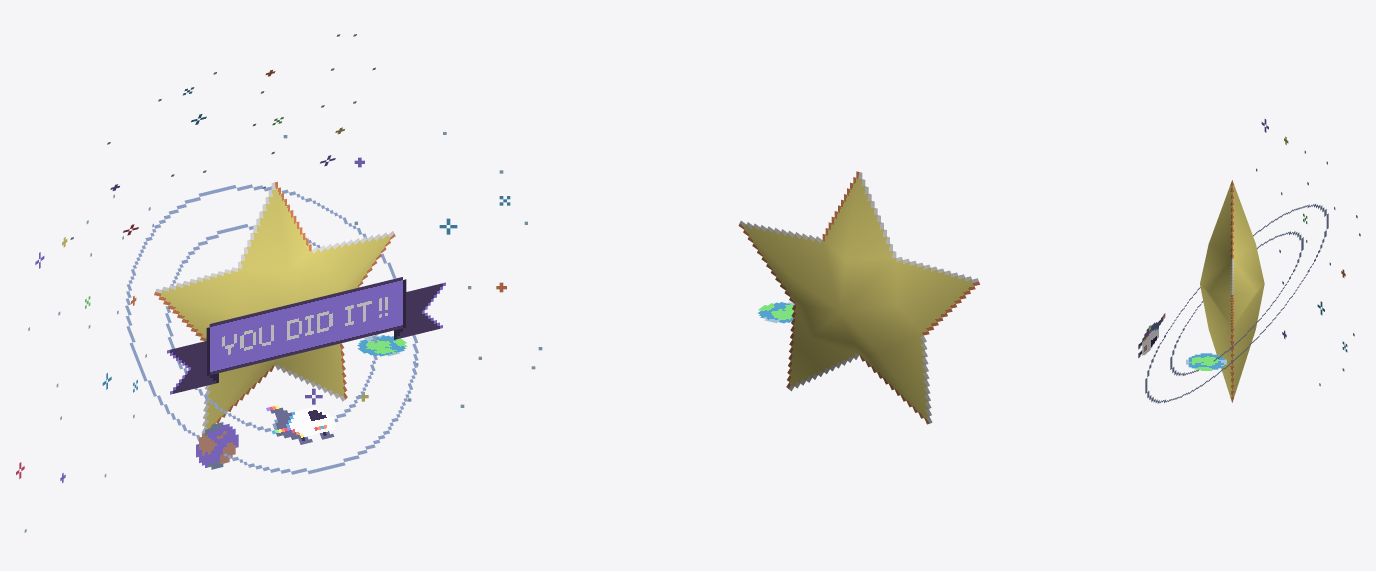
Rendered from award.gltf.
The picture shows the model from 3 angles, left to right: view 1: azimuth 30°, elevation 25°; view 2: azimuth 150°, elevation 25°; view 3: azimuth 270°, elevation 25°; orthographic projection. The views are drawn at different scales.
Visible parts, largest first — view 1: award, logo, orbits, stars, spaceship_sprite, stardust_sprite, earth_sprite; view 2: award; view 3: award, orbits, earth_sprite, spaceship_sprite, stars.
Part boxes in pixels (box(x1,y1,x2,y2)): award: box(154, 181, 395, 433); logo: box(167, 277, 445, 394); orbits: box(125, 184, 418, 474); stars: box(16, 34, 542, 532); spaceship_sprite: box(266, 405, 336, 444); stardust_sprite: box(196, 422, 238, 469); earth_sprite: box(357, 335, 407, 356); award: box(738, 171, 979, 424); award: box(1200, 180, 1264, 402); orbits: box(1145, 204, 1328, 403); earth_sprite: box(1186, 353, 1226, 370); spaceship_sprite: box(1138, 313, 1165, 357); stars: box(1256, 119, 1360, 386).
Size of the model in its own units: 2.71 by 2.17 by 1.21.
1 material, 1 textured.
